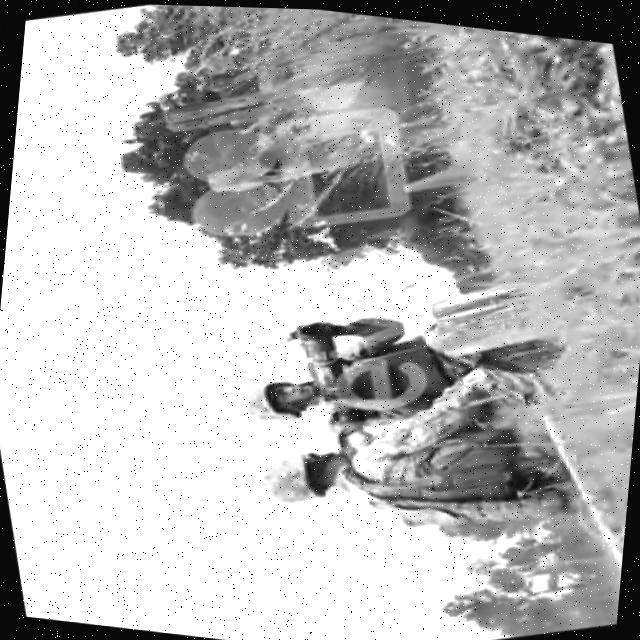rocket: (280, 312, 357, 413)
